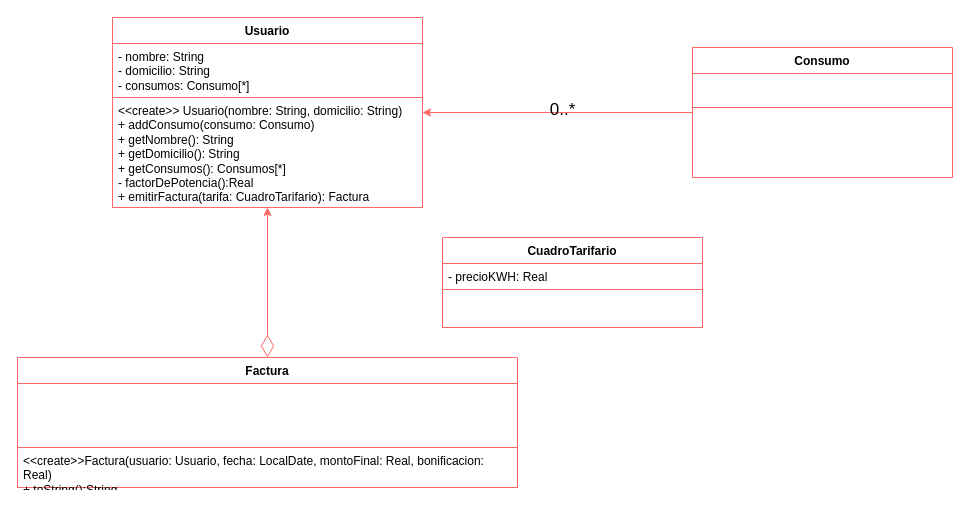
Some shapes in this 970 by 513 pixel diagram are drawn without their labels. Here are the shapes that lost their labels. From the top down, the centre of each, then its label:
the point at 822,90: - kwh: Real - kvarh: Real
the point at 822,142: <<create>> Consumo(kwh: Real, kvarh: Real) + getKwh(): Real + getKvarh(): Real
the point at 572,308: <<create>> CuadroTarifario(precioKWH: Real) + getPrecioKWH(): Real
the point at 267,415: - usuario: Usuario - fecha: LocalDate - bonificacion: Real - montoFInal: Real
